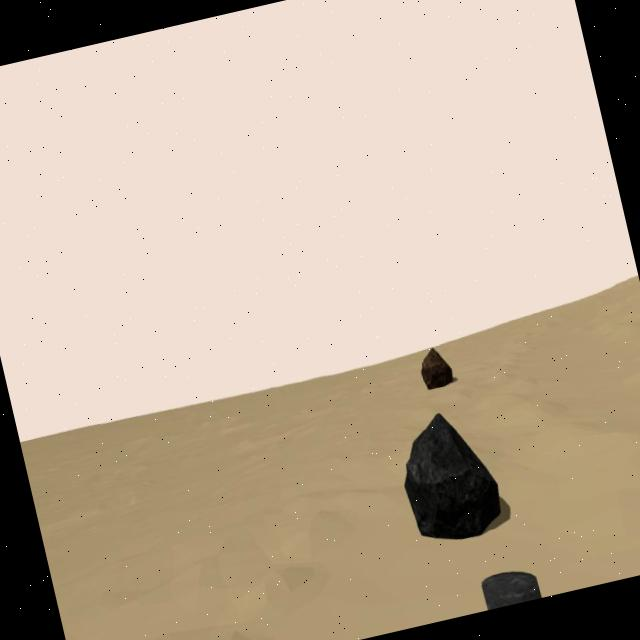rock: (390, 402, 508, 549), (416, 343, 454, 390)
